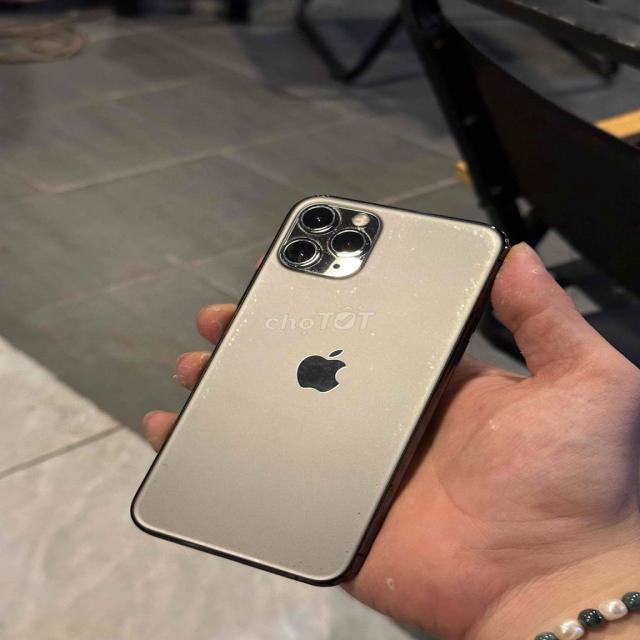scratch: (260, 194, 513, 292), (372, 296, 483, 470), (181, 297, 263, 397), (338, 507, 362, 557)
